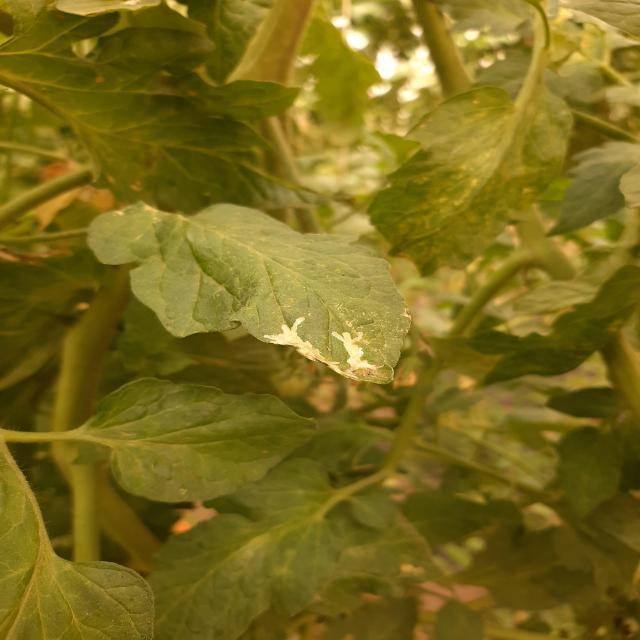Tuta absoluta: (262, 296, 393, 389)
